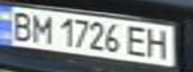1: (54, 15, 75, 47)
2: (87, 19, 106, 52)
6: (103, 20, 127, 55)
7: (69, 16, 90, 50)
B: (3, 9, 36, 43)
E: (124, 24, 151, 58)
H: (142, 26, 175, 61)
M: (27, 11, 57, 45)
